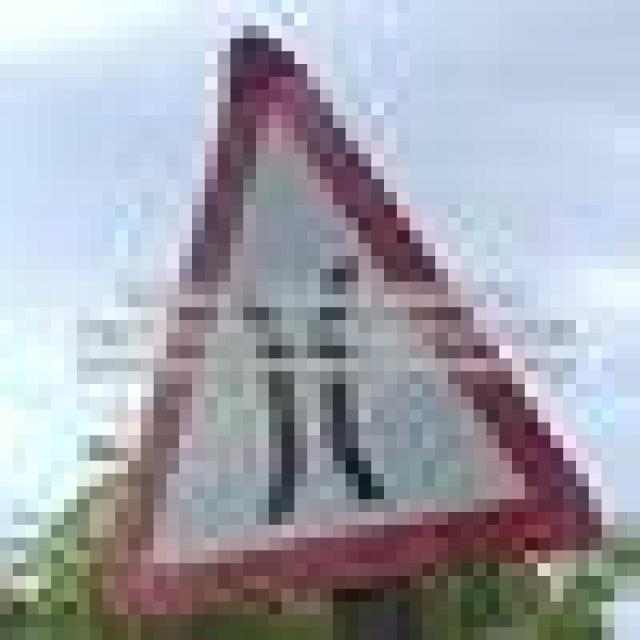NARROW_BRIDGE: (106, 31, 602, 619)
